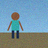person: (8, 12, 23, 38)
